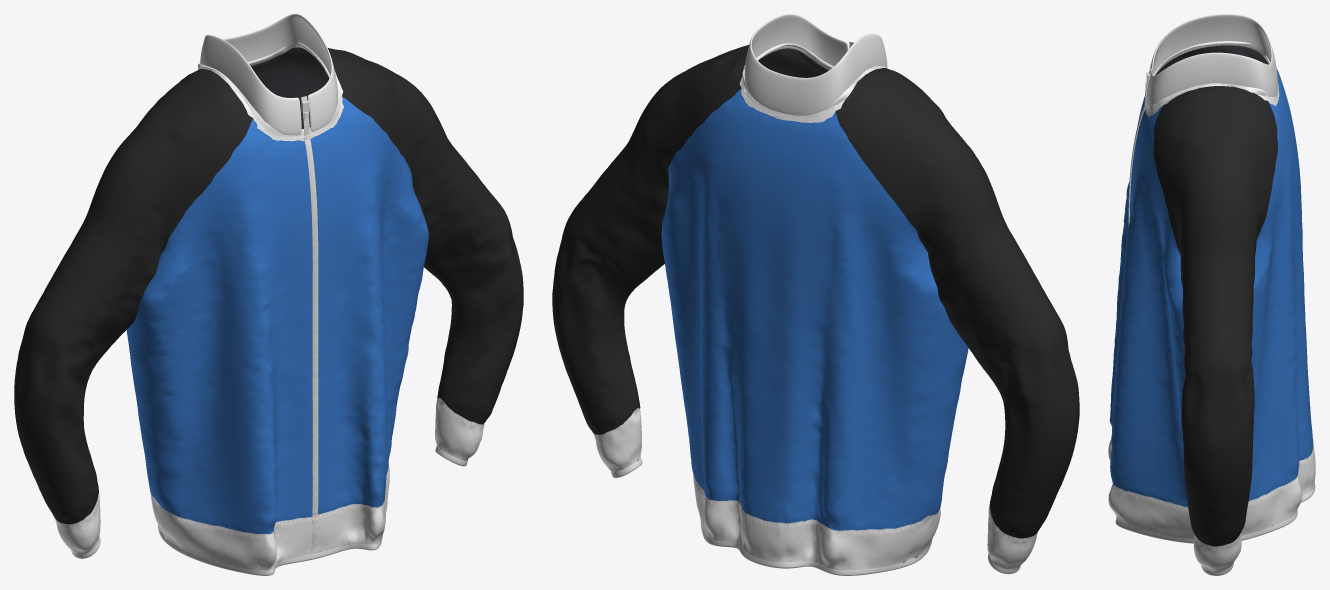
File: tempozip.glb
3 renders of one model, left to right at view 1: azimuth 30°, elevation 25°; view 2: azimuth 150°, elevation 25°; view 3: azimuth 270°, elevation 25°, orthographic. The views are drawn at different scales.
Visible parts, largest first — view 1: Jersey; view 2: Jersey; view 3: Jersey.
Part boxes in pixels (x1=…): Jersey: x1=14, y1=14, x2=523, y2=575; Jersey: x1=552, y1=14, x2=1079, y2=575; Jersey: x1=1108, y1=14, x2=1315, y2=575.
Size of the model in its own units: 3.1 by 2.94 by 1.18.
